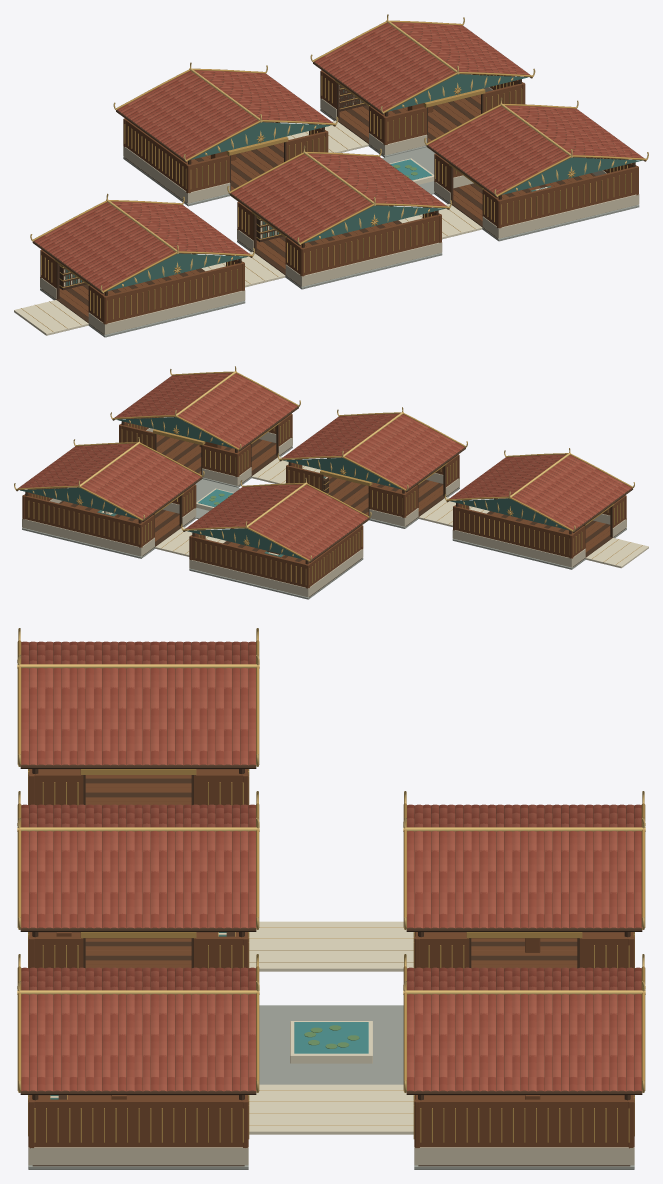
File: oldtown-archive.glb
3 renders of one model, top to bottom at view 1: azimuth 30°, elevation 25°; view 2: azimuth 150°, elevation 25°; view 3: azimuth 270°, elevation 25°, orthographic. The views are drawn at different scales.
Visible parts, largest first — view 1: ArchiveBaseMesh, RiverRoofMesh, LanternRoofMesh, ReceptionRoofMesh, ReadingRoofMesh, MapsRoofMesh, MapsWallsMesh, ReceptionWallsMesh, ReadingWallsMesh, RiverWallsMesh, LanternWallsMesh, MapsWallsSill (+5 smaller); view 2: ArchiveBaseMesh, ReadingRoofMesh, LanternRoofMesh, MapsRoofMesh, RiverRoofMesh, ReceptionRoofMesh, RiverWallsMesh, LanternWallsMesh, ReceptionWallsMesh, MapsWallsMesh, ReadingWallsMesh, RiverWallsSill (+5 smaller); view 3: ArchiveBaseMesh, ReceptionRoofMesh, ReadingRoofMesh, RiverRoofMesh, LanternRoofMesh, MapsRoofMesh, LanternWallsMesh, MapsWallsMesh, ReadingWallsMesh, RiverWallsMesh, ReceptionWallsMesh, ArchiveFurnitureMesh (+2 smaller).
Part boxes in pixels (x1,y1,x2,y2): ArchiveBaseMesh: (14,94,639,337); RiverRoofMesh: (113,62,338,162); LanternRoofMesh: (310,14,535,114); ReceptionRoofMesh: (30,193,254,293); ReadingRoofMesh: (227,145,451,245); MapsRoofMesh: (424,97,648,197); MapsWallsMesh: (434,153,638,228); ReceptionWallsMesh: (40,249,244,324); ReadingWallsMesh: (237,201,441,276); RiverWallsMesh: (123,118,328,193); LanternWallsMesh: (320,70,525,145); MapsWallsSill: (434,157,639,238); ArchiveBaseMesh: (22,434,648,599); ReadingRoofMesh: (277,407,467,492); LanternRoofMesh: (14,437,204,521); MapsRoofMesh: (110,366,300,451); RiverRoofMesh: (181,477,371,562); ReceptionRoofMesh: (444,448,634,532); RiverWallsMesh: (189,525,363,588); LanternWallsMesh: (22,484,196,547); ReceptionWallsMesh: (453,495,626,558); MapsWallsMesh: (119,413,292,476); ReadingWallsMesh: (286,454,459,518); RiverWallsSill: (189,528,363,597); ArchiveBaseMesh: (28,769,634,1169); ReceptionRoofMesh: (17,628,259,768); ReadingRoofMesh: (17,791,259,931); RiverRoofMesh: (403,791,645,931); LanternRoofMesh: (403,954,645,1094); MapsRoofMesh: (17,954,259,1094); LanternWallsMesh: (413,1095,634,1148); MapsWallsMesh: (28,1095,249,1148); ReadingWallsMesh: (28,932,249,968); RiverWallsMesh: (413,932,634,968); ReceptionWallsMesh: (28,769,249,805); ArchiveFurnitureMesh: (50,932,540,1099).
Bounding box in the file's own units: 41.48 × 5.25 × 22.8.
